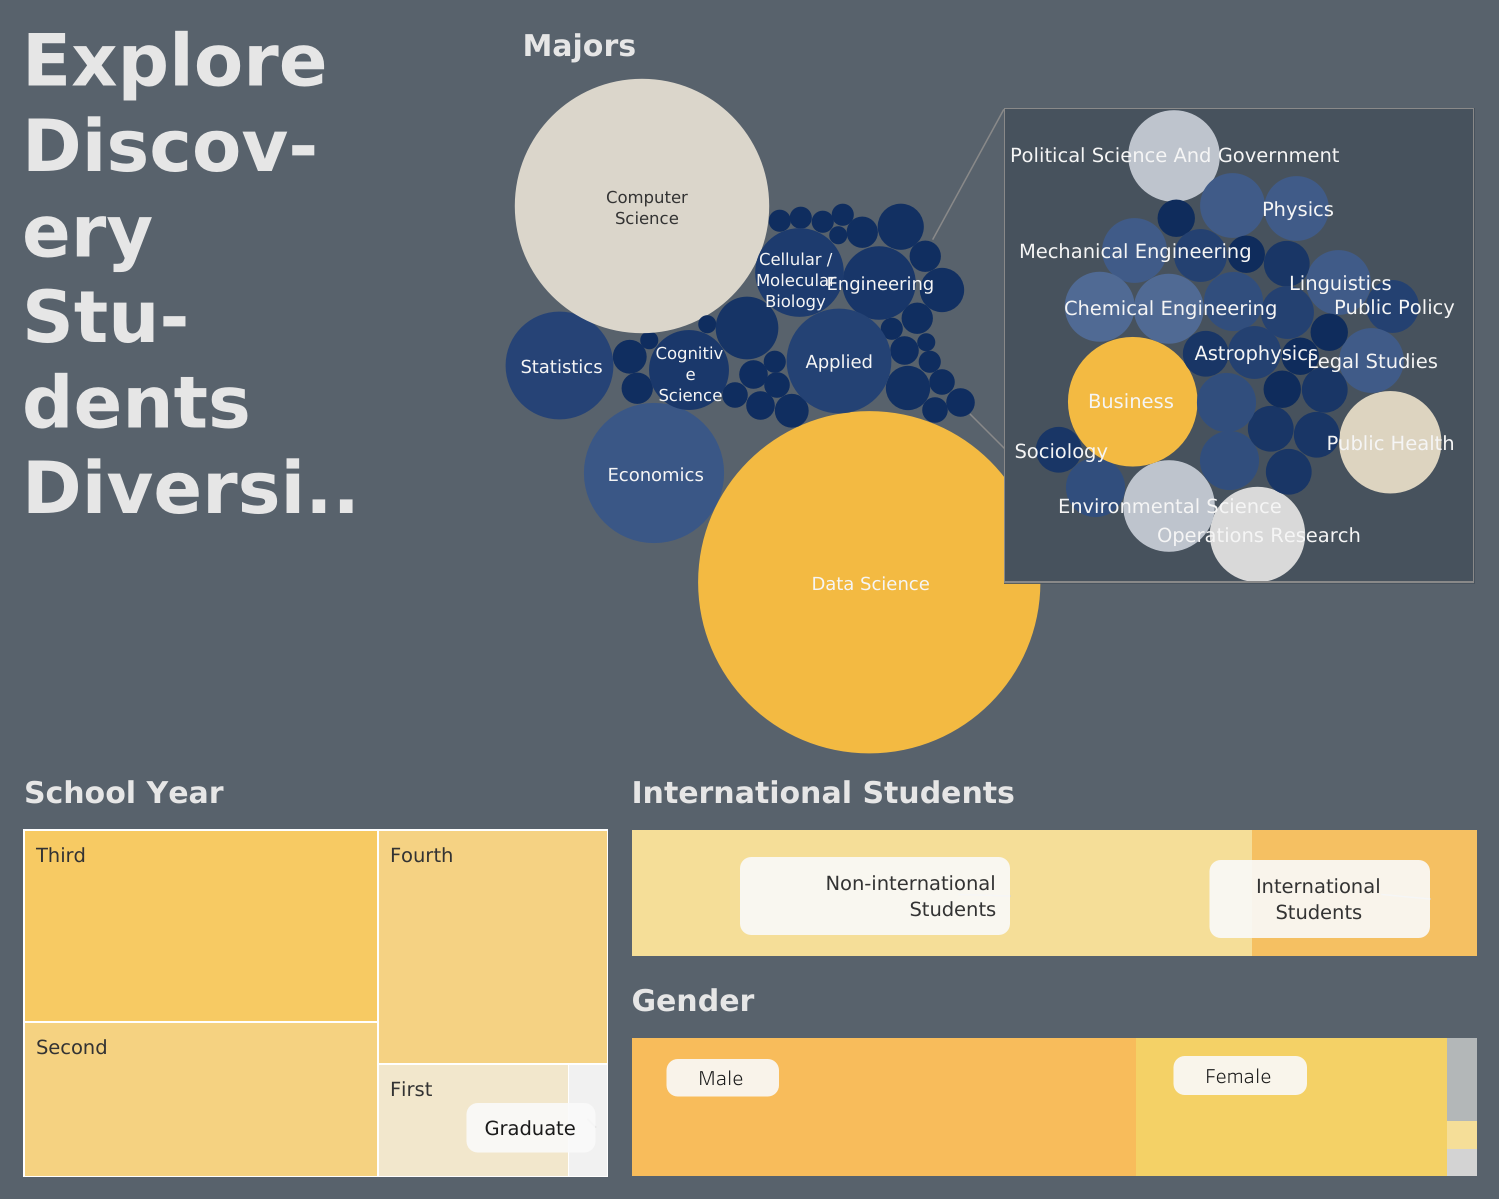

What the dashboard file says about the page in this screenshot:
{"tool":"tableau","page":{"name":"Dashboard 2","canvas":[1000,800],"ordinal":0},"visuals":[{"type":"text","box":[8,8,242,374]},{"type":"worksheet","title":"01","mark":"Circle","box":[250,8,530,498]},{"type":"blank","box":[780,8,212,498]},{"type":"worksheet","title":"02","mark":"Circle","box":[669,72,314,317]},{"type":"blank","box":[8,382,242,124]},{"type":"worksheet","title":"03","mark":"Square","box":[8,506,405,286]},{"type":"worksheet","title":"04","mark":"Square","box":[413,506,579,139]},{"type":"worksheet","title":"05","mark":"Square","box":[413,645,579,147]}]}

Visuals, with their boxes in screenshot pixels (x1, y1, x2, y2), scaled from the page's 1000x800 canvas onto the 1499x1199 screenshot:
text: box=[12, 12, 375, 573]
"01" worksheet (Circle marks): box=[375, 12, 1169, 758]
blank: box=[1169, 12, 1487, 758]
"02" worksheet (Circle marks): box=[1003, 108, 1474, 583]
blank: box=[12, 573, 375, 758]
"03" worksheet (Square marks): box=[12, 758, 619, 1187]
"04" worksheet (Square marks): box=[619, 758, 1487, 967]
"05" worksheet (Square marks): box=[619, 967, 1487, 1187]
